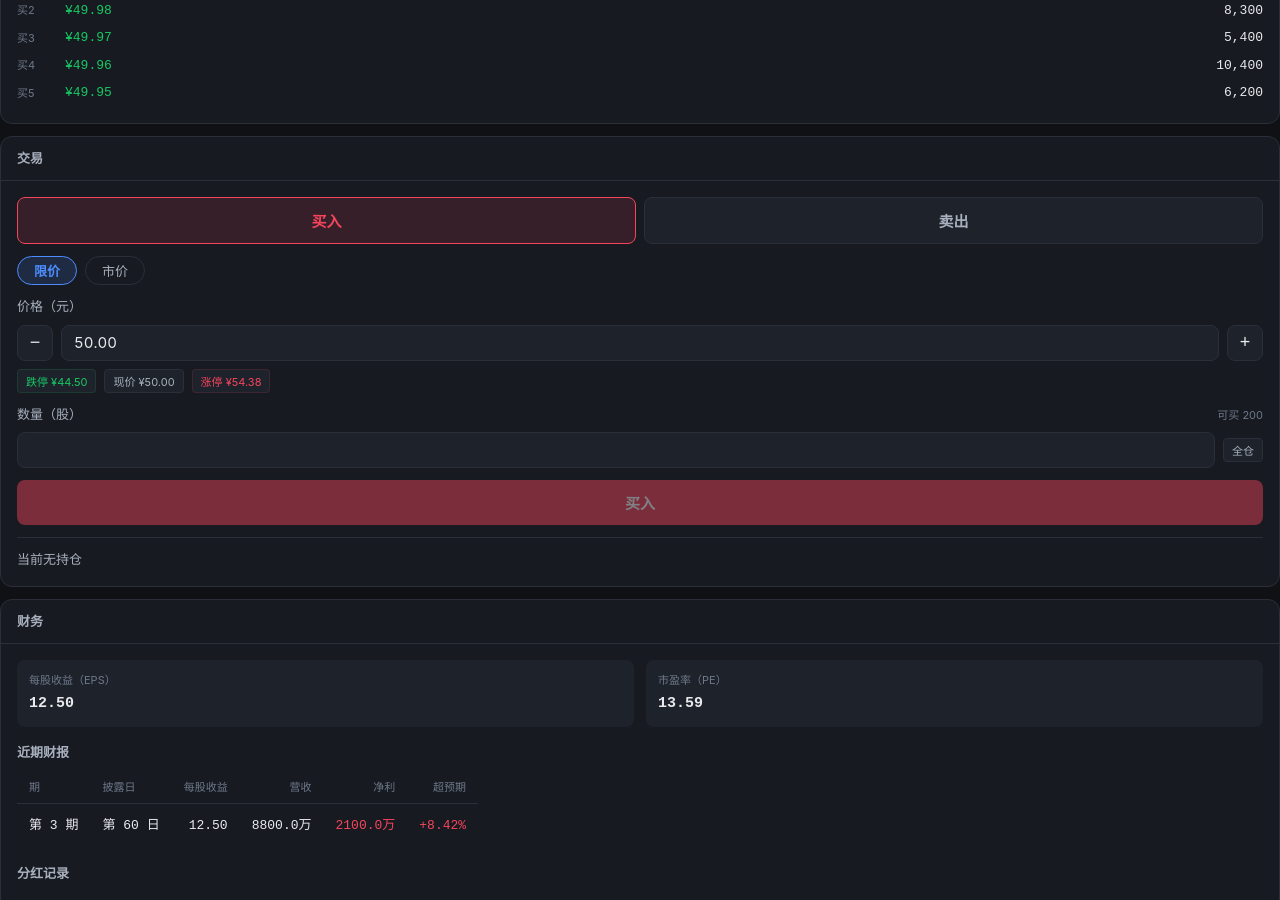
Test: Stock 下单 › 下单失败时把错误码映射为中文
The width and height of the screenshot is (1280, 900).
(page scrolled)
Type "100" into the number field with test id "qty-input" at (616, 450), box [17,432,1215,468]
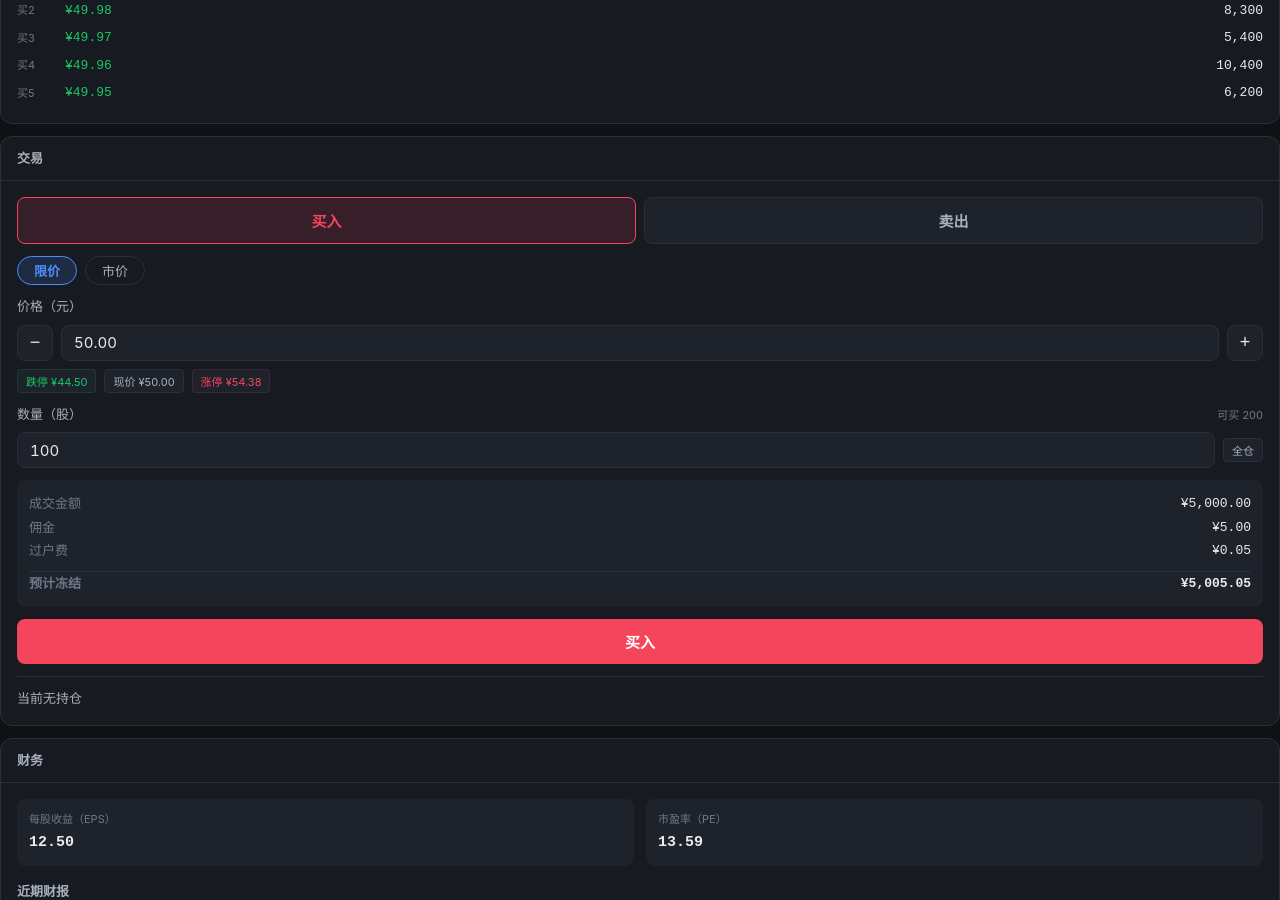
Click the button with test id "submit-order" at (640, 642), box [17,619,1263,664]
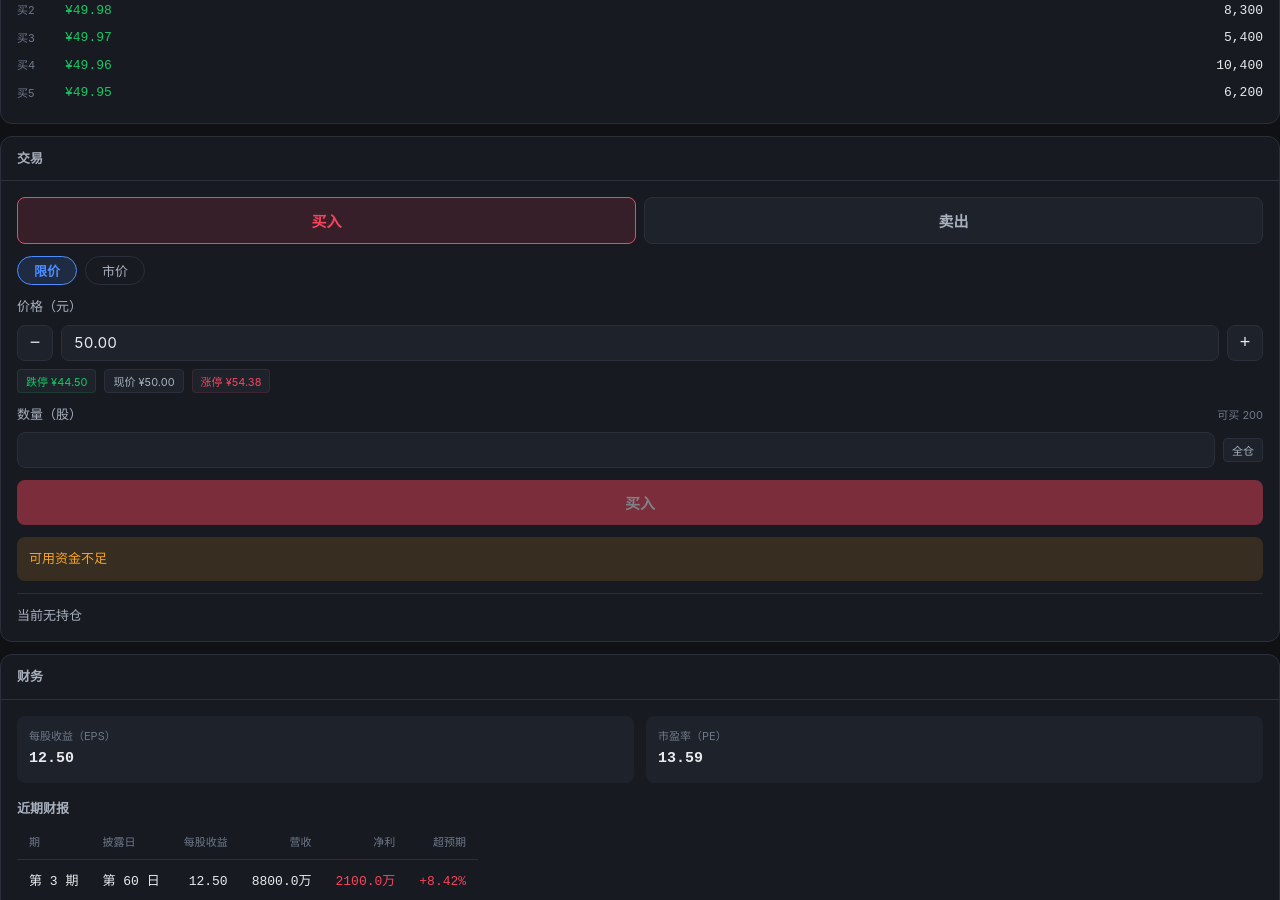
Expected: the text "可用资金不足" is shown, [17,537,1263,580]
